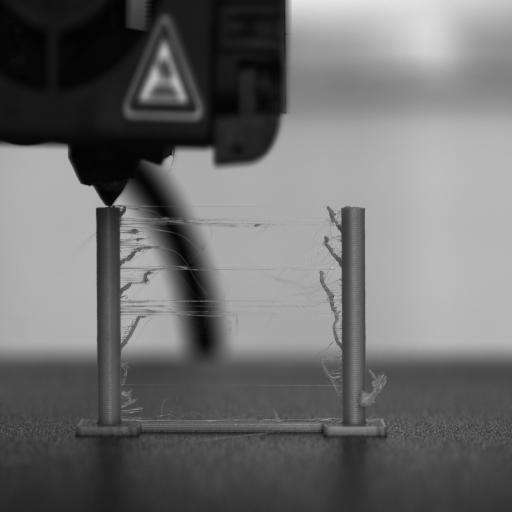spaghetti_and_stringing: (144, 202, 314, 237), (320, 203, 344, 410), (119, 206, 147, 354), (357, 366, 392, 412), (120, 361, 146, 417)
